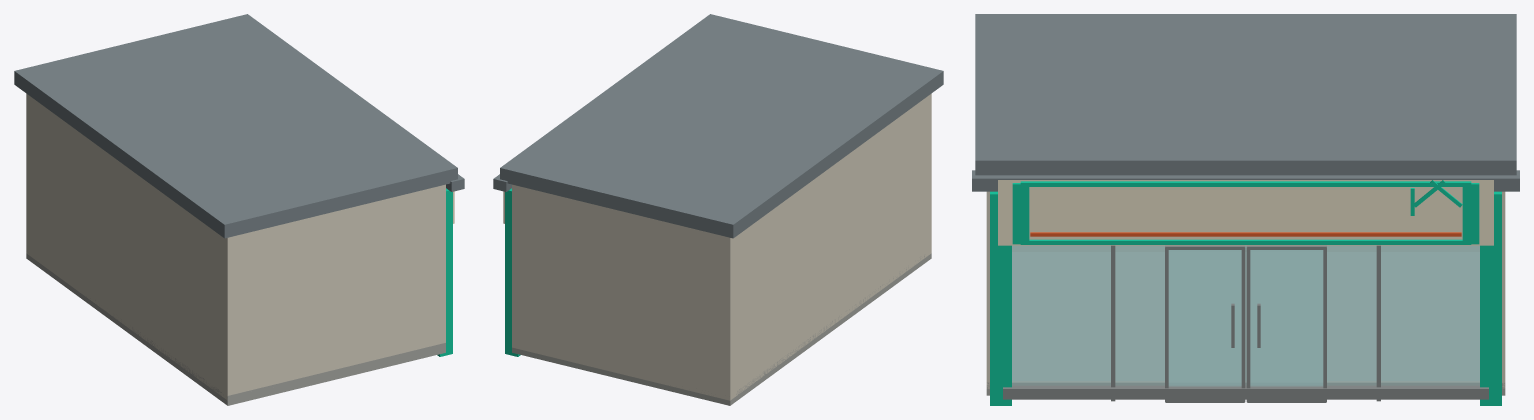
File: bld.glb
The picture shows the model from 3 angles, left to right: view 1: azimuth 30°, elevation 25°; view 2: azimuth 150°, elevation 25°; view 3: azimuth 270°, elevation 25°; orthographic projection. The views are drawn at different scales.
Visible parts, largest first — view 1: 屋顶板, 左侧外墙, 后侧外墙, 建筑地坪, 左前立柱, 右侧外墙; view 2: 屋顶板, 右侧外墙, 后侧外墙, 建筑地坪, 右前立柱, 左侧外墙; view 3: 屋顶板, 正面不可透视玻璃幕墙, 建筑地坪, 主招牌底板, 关闭玻璃门_右扇, 关闭玻璃门_左扇, 店面底部踢脚线, 右前立柱, 左前立柱, 屋顶前檐压边, 招牌下边绿条, 招牌上边绿条 (+12 smaller).
Boxes of the visible parts, x1,y1,x2,y2 form: 屋顶板: [14, 14, 457, 238]; 左侧外墙: [221, 184, 445, 400]; 后侧外墙: [29, 96, 224, 397]; 建筑地坪: [26, 251, 445, 405]; 左前立柱: [437, 188, 452, 356]; 右侧外墙: [26, 93, 32, 257]; 屋顶板: [500, 14, 943, 238]; 右侧外墙: [512, 184, 736, 400]; 后侧外墙: [733, 98, 925, 395]; 建筑地坪: [512, 253, 931, 405]; 右前立柱: [505, 188, 520, 356]; 左侧外墙: [925, 93, 931, 257]; 屋顶板: [975, 14, 1516, 175]; 正面不可透视玻璃幕墙: [1012, 245, 1479, 385]; 建筑地坪: [986, 252, 1505, 395]; 主招牌底板: [998, 180, 1493, 245]; 关闭玻璃门_右扇: [1250, 250, 1323, 386]; 关闭玻璃门_左扇: [1168, 250, 1241, 386]; 店面底部踢脚线: [1003, 385, 1488, 399]; 右前立柱: [1480, 191, 1501, 405]; 左前立柱: [990, 191, 1011, 405]; 屋顶前檐压边: [972, 170, 1519, 191]; 招牌下边绿条: [1020, 239, 1471, 244]; 招牌上边绿条: [1020, 181, 1471, 186].
Bounding box in the file's own units: 2.65 × 1.98 × 4.02.
